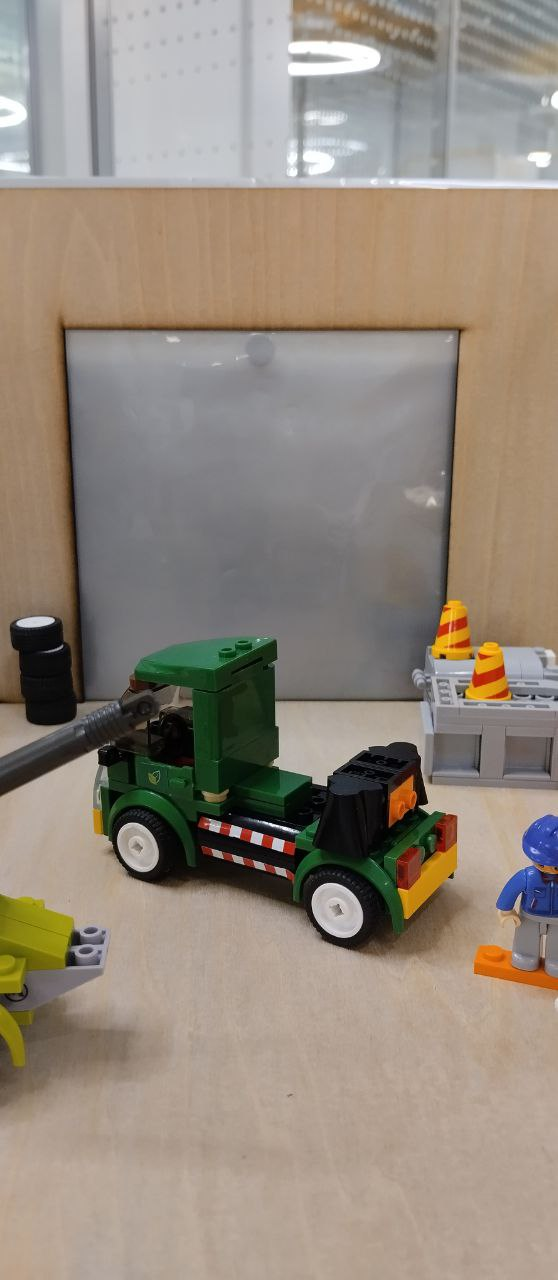Cone: (466, 641, 512, 704), (431, 596, 474, 659)
Object Black: (311, 739, 425, 855)
Truck: (70, 639, 464, 956)
